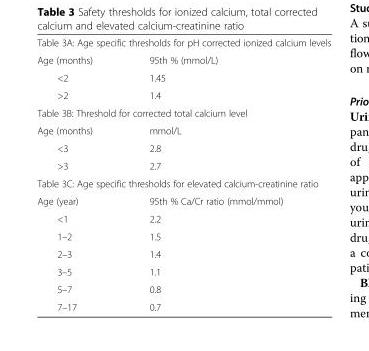table: (36, 36, 330, 312)
table column: (120, 36, 330, 312), (36, 36, 120, 312)
table projected row header: (36, 103, 330, 121), (36, 174, 330, 191), (36, 36, 330, 50)
table row: (36, 50, 330, 68), (36, 68, 330, 86), (36, 103, 330, 121), (36, 121, 330, 139), (36, 156, 330, 174), (36, 191, 330, 209), (36, 209, 330, 227), (36, 244, 330, 262), (36, 262, 330, 280), (36, 86, 330, 103), (36, 139, 330, 156), (36, 174, 330, 191), (36, 227, 330, 244), (36, 280, 330, 297), (36, 297, 330, 312), (36, 36, 330, 50)
